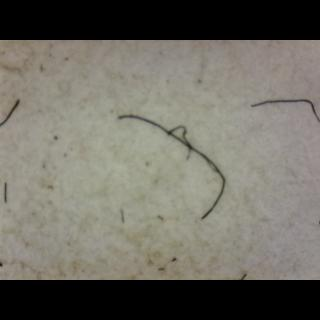Microplastic: (111, 97, 249, 223), (253, 92, 319, 130), (1, 98, 23, 130)
